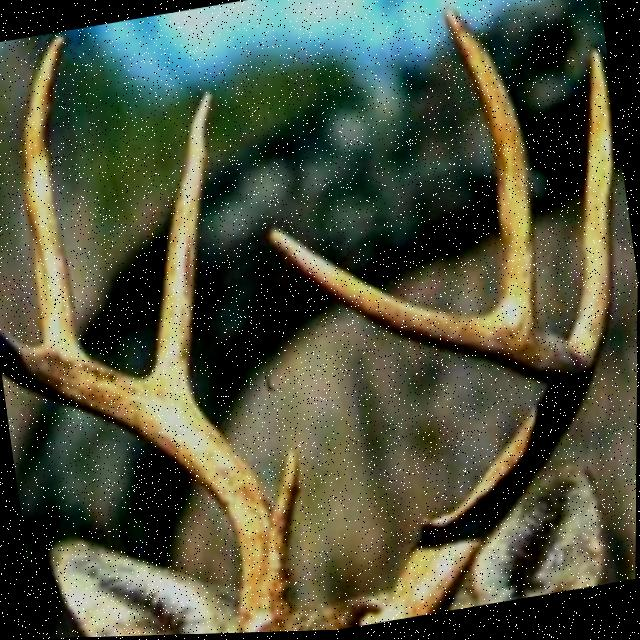L-F: (266, 227, 588, 628)
L-G2: (560, 48, 616, 375)
L-G3: (441, 7, 550, 332)
R-F: (0, 327, 295, 634)
R-G1: (272, 451, 302, 551)
R-G2: (141, 89, 214, 409)
R-G3: (20, 32, 94, 361)
